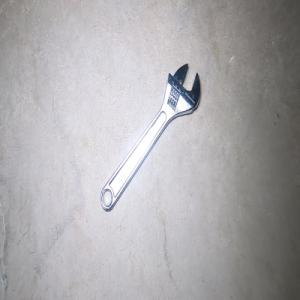Wrench: (100, 63, 200, 211)
